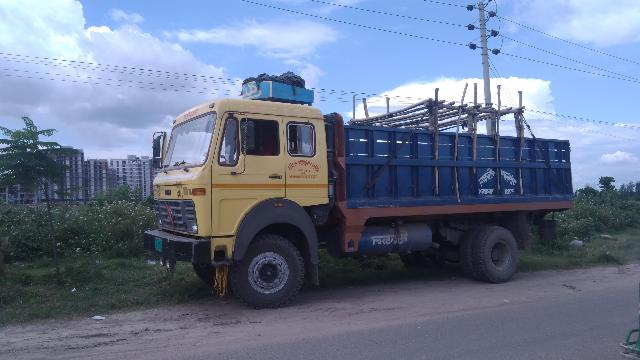truck: (130, 62, 581, 305)
